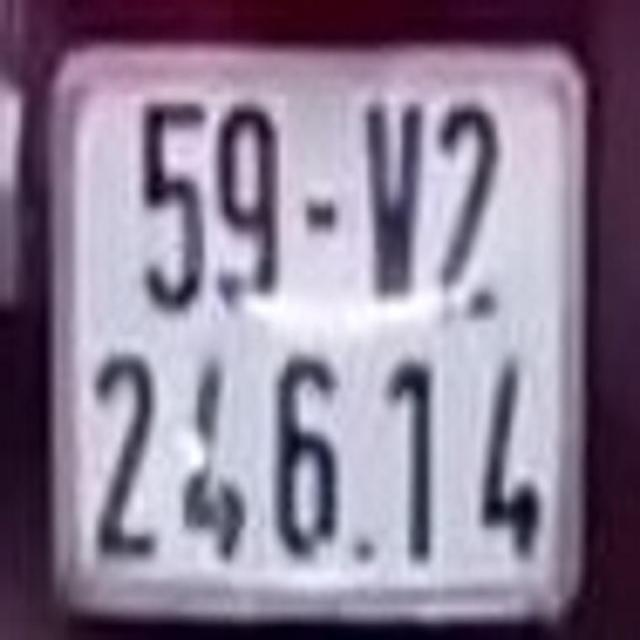1: (380, 366, 432, 560)
2: (78, 357, 166, 556), (428, 111, 498, 320)
4: (184, 371, 250, 559), (486, 363, 549, 559)
5: (139, 100, 209, 304)
6: (276, 353, 339, 562)
9: (219, 108, 277, 316)
V: (361, 110, 426, 320)
